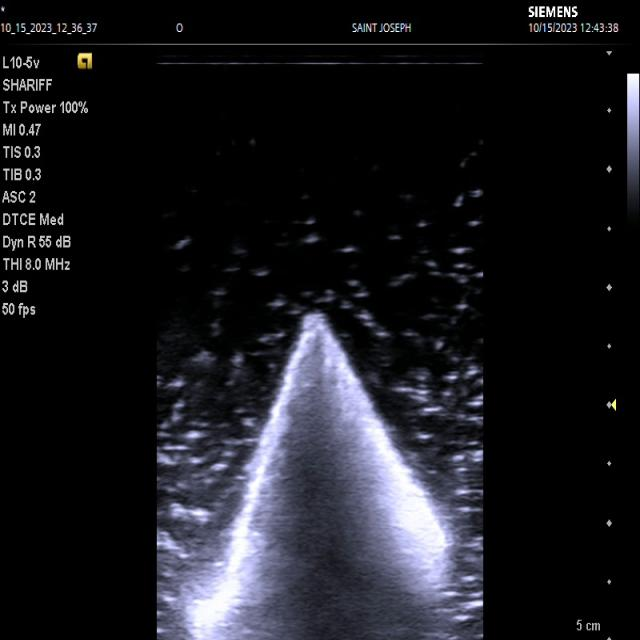tissue: (190, 314, 464, 640)
